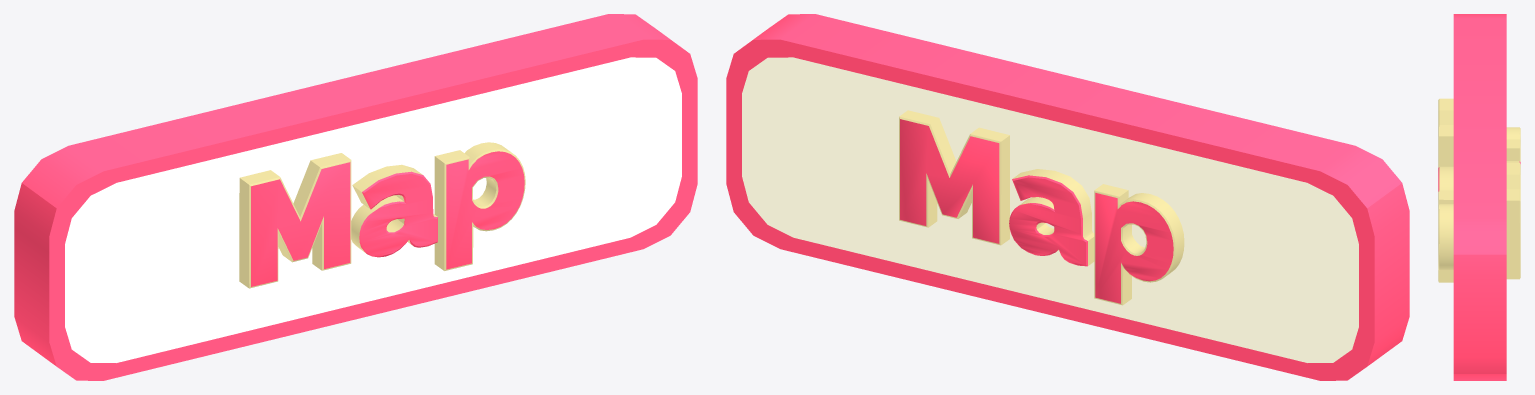
File: mapTitle.glb
The picture shows the model from 3 angles, left to right: view 1: azimuth 30°, elevation 25°; view 2: azimuth 150°, elevation 25°; view 3: azimuth 270°, elevation 25°; orthographic projection. The views are drawn at different scales.
Visible parts, largest first — view 1: Cube.013, Text.005; view 2: Cube.013, Text.006; view 3: Cube.013, Text.005, Text.006.
Boxes of the visible parts, box(x1,y1,x2,y2) form: Cube.013: box(14, 14, 697, 380); Text.005: box(239, 142, 525, 288); Cube.013: box(726, 14, 1409, 380); Text.006: box(899, 110, 1184, 305); Cube.013: box(1453, 14, 1506, 380); Text.005: box(1438, 98, 1453, 282); Text.006: box(1506, 127, 1520, 279).
Bounding box in the file's own units: 1 × 0.3096 × 0.1463.
Materials: 2 (2 with a texture image).
